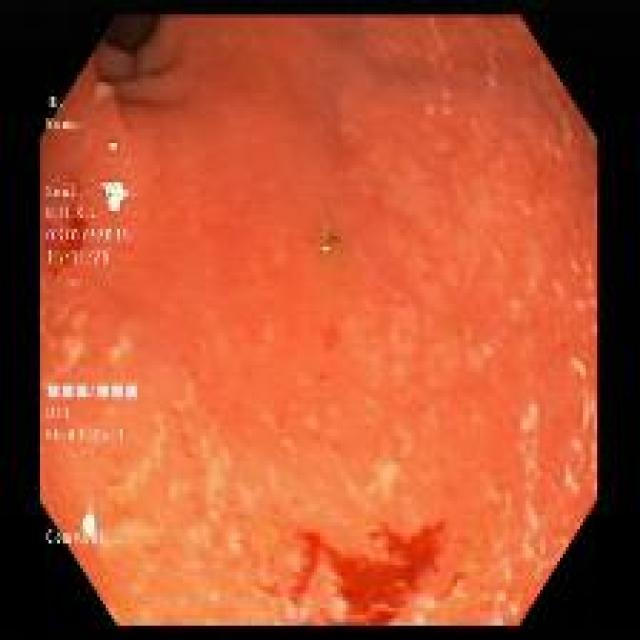ulcerative-colitis: (41, 19, 596, 624)
